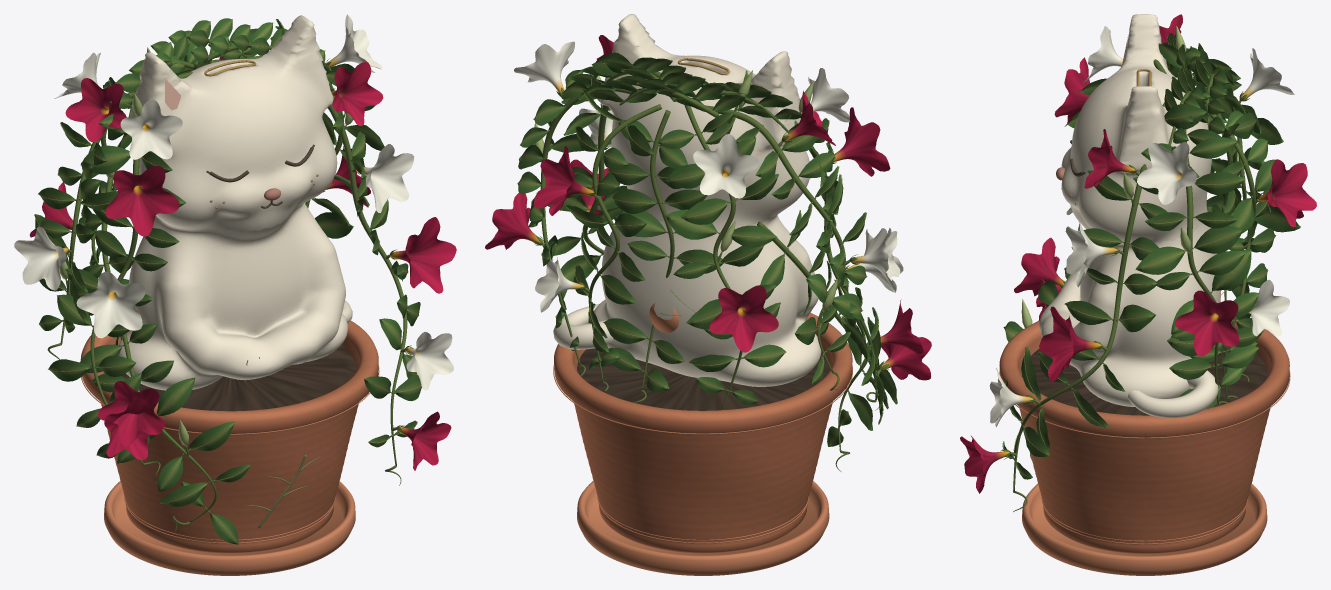
Rendered from mandevilla-queen.v1.glb.
The picture shows the model from 3 angles, left to right: view 1: azimuth 30°, elevation 25°; view 2: azimuth 150°, elevation 25°; view 3: azimuth 270°, elevation 25°; orthographic projection. The views are drawn at different scales.
Parts seen in each view (by area): view 1: Ceramic | torso and meditating paws, Ceramic | cat head and ears, Pot | hand-thrown terracotta, Living hair | left leaves, Living hair | left red flowers, Pot | saucer, Living hair | left white flowers, Living hair | right red flowers, Living hair | right leaves, Pot | soil, Living hair | right white flowers, Living hair | crown leaves (+8 smaller); view 2: Pot | hand-thrown terracotta, Living hair | back leaves, Ceramic | torso and meditating paws, Ceramic | cat head and ears, Living hair | left leaves, Pot | saucer, Living hair | right leaves, Pot | soil, Living hair | crown leaves, Living hair | left red flowers, Living hair | back red flowers, Living hair | back vines (+12 smaller); view 3: Pot | hand-thrown terracotta, Living hair | right leaves, Ceramic | cat head and ears, Ceramic | torso and meditating paws, Pot | saucer, Living hair | back leaves, Living hair | right red flowers, Living hair | right white flowers, Living hair | crown leaves, Pot | soil, Living hair | left red flowers, Living hair | right vines (+9 smaller).
Part boxes in pixels (x1,y1,x2,y2): Ceramic | torso and meditating paws: (118, 203, 347, 390); Ceramic | cat head and ears: (131, 15, 337, 232); Pot | hand-thrown terracotta: (80, 320, 378, 553); Living hair | left leaves: (34, 60, 250, 544); Living hair | left red flowers: (65, 78, 179, 460); Pot | saucer: (104, 481, 355, 575); Living hair | left white flowers: (14, 99, 182, 338); Living hair | right red flowers: (326, 62, 456, 470); Living hair | right leaves: (270, 19, 421, 447); Pot | soil: (118, 345, 355, 411); Living hair | right white flowers: (326, 14, 453, 390); Living hair | crown leaves: (98, 18, 325, 129); Pot | hand-thrown terracotta: (554, 312, 852, 553); Living hair | back leaves: (566, 88, 786, 405); Ceramic | torso and meditating paws: (594, 211, 821, 386); Ceramic | cat head and ears: (600, 14, 809, 231); Living hair | left leaves: (705, 70, 897, 446); Pot | saucer: (577, 481, 829, 575); Living hair | right leaves: (517, 52, 629, 350); Pot | soil: (577, 348, 829, 410); Living hair | crown leaves: (568, 57, 825, 132); Living hair | left red flowers: (782, 90, 931, 380); Living hair | back red flowers: (533, 146, 778, 352); Living hair | back vines: (584, 104, 743, 410); Pot | hand-thrown terracotta: (999, 319, 1289, 553); Living hair | right leaves: (1001, 104, 1263, 479); Ceramic | cat head and ears: (1061, 14, 1211, 243); Ceramic | torso and meditating paws: (1039, 210, 1220, 406); Pot | saucer: (1022, 483, 1267, 575); Living hair | back leaves: (1189, 62, 1300, 409); Living hair | right red flowers: (960, 129, 1239, 493); Living hair | right white flowers: (989, 142, 1196, 426); Living hair | crown leaves: (1163, 33, 1229, 150); Pot | soil: (1022, 346, 1267, 415); Living hair | left red flowers: (1014, 14, 1182, 320); Living hair | right vines: (1010, 102, 1227, 511).
Size of the model in its own units: 0.8301 by 1 by 0.678.
